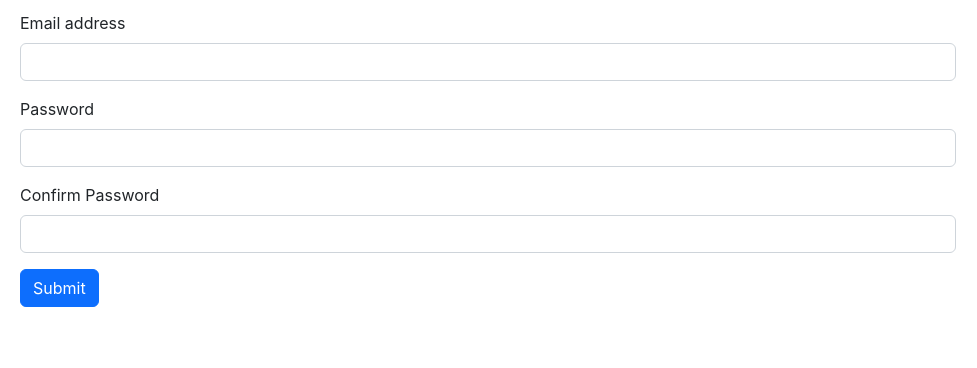
Test case: App › Error Handling › should show confirm password error if password is don't match
Type "selena@gmail.com" into the field labelled "Email address" at (488, 62), box 20,43 -> 956,81
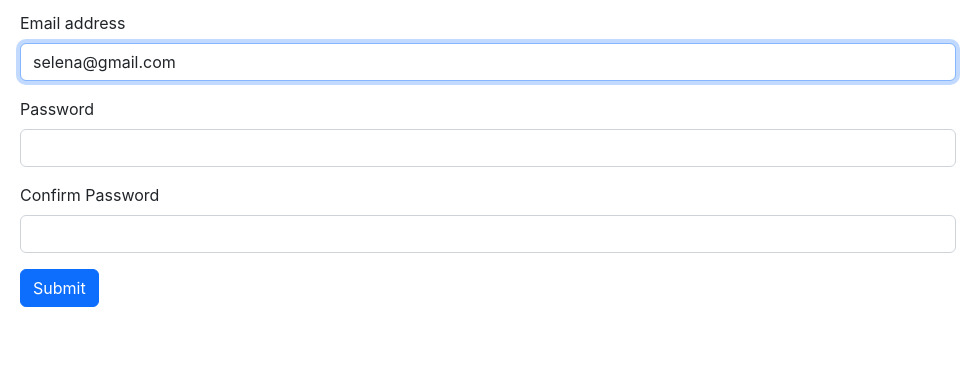
Type "12345" into the password field labelled "Password" at (488, 148), box 20,129 -> 956,167
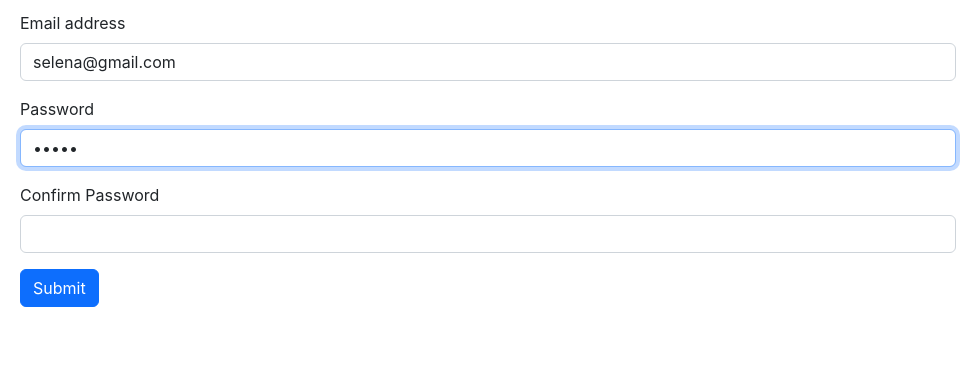
expect the text "the password don't match. try again" is not shown: met
Type "123456" into the password field labelled "Confirm Password" at (488, 234), box 20,215 -> 956,253
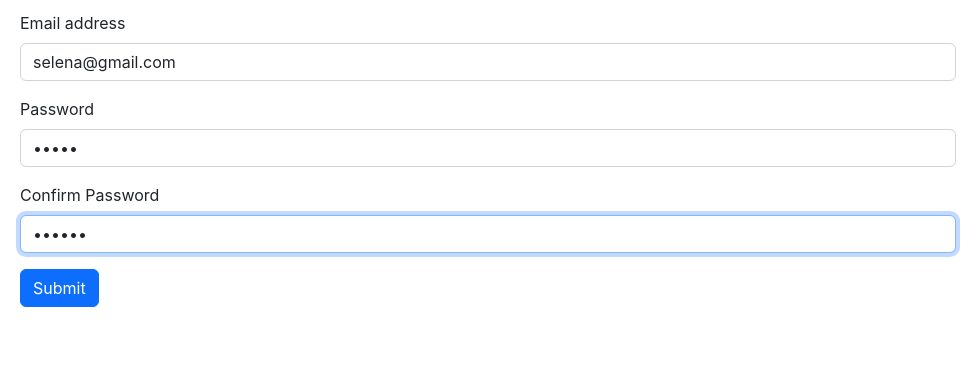
Click the button "Submit" at (59, 288), box 20,269 -> 99,307
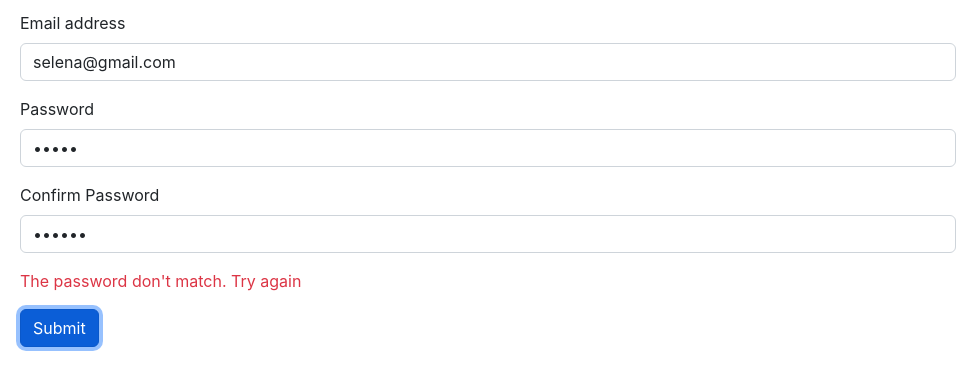
expect the text "The password don't match. Try again" is shown: met, box 20,271 -> 301,291
